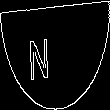N_N: (43, 28, 67, 82)
